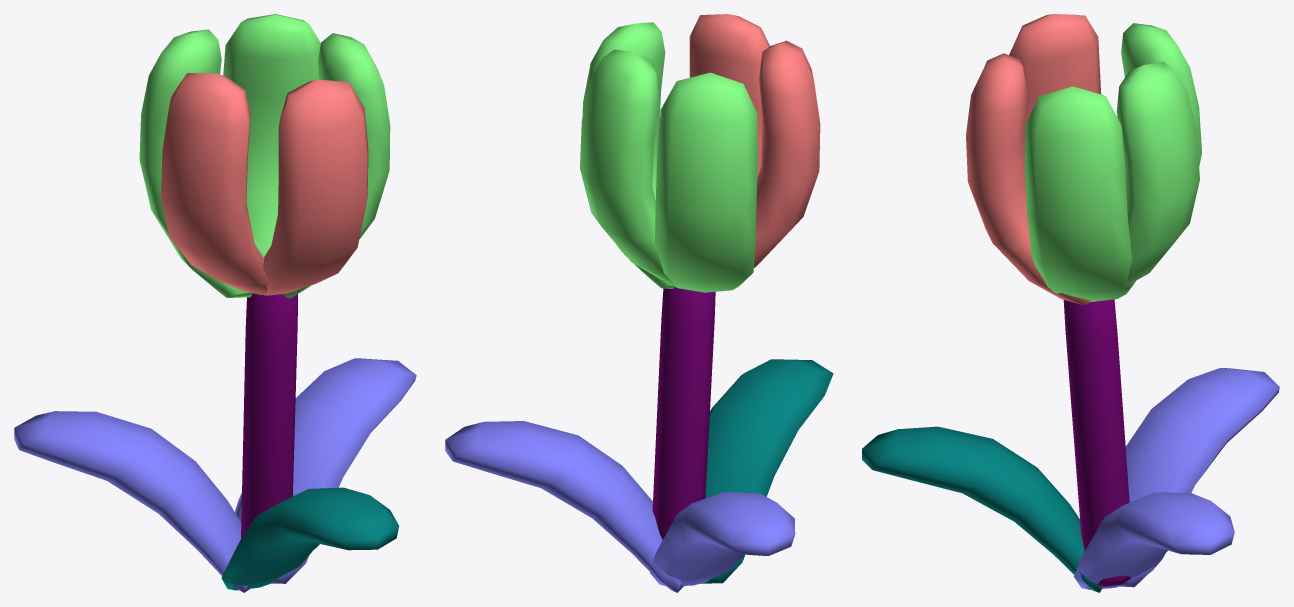
Rendered from Flower01.fbx.
The picture shows the model from 3 angles, left to right: view 1: azimuth 30°, elevation 25°; view 2: azimuth 150°, elevation 25°; view 3: azimuth 270°, elevation 25°; orthographic projection.
Visible parts, largest first — view 1: Low_Flower01; view 2: Low_Flower01; view 3: Low_Flower01.
Part boxes in pixels (x1,y1,x2,y2): Low_Flower01: (14,14,416,592); Low_Flower01: (445,14,833,592); Low_Flower01: (862,14,1279,592).
Bounding box in the file's own units: 519 × 739 × 518.
